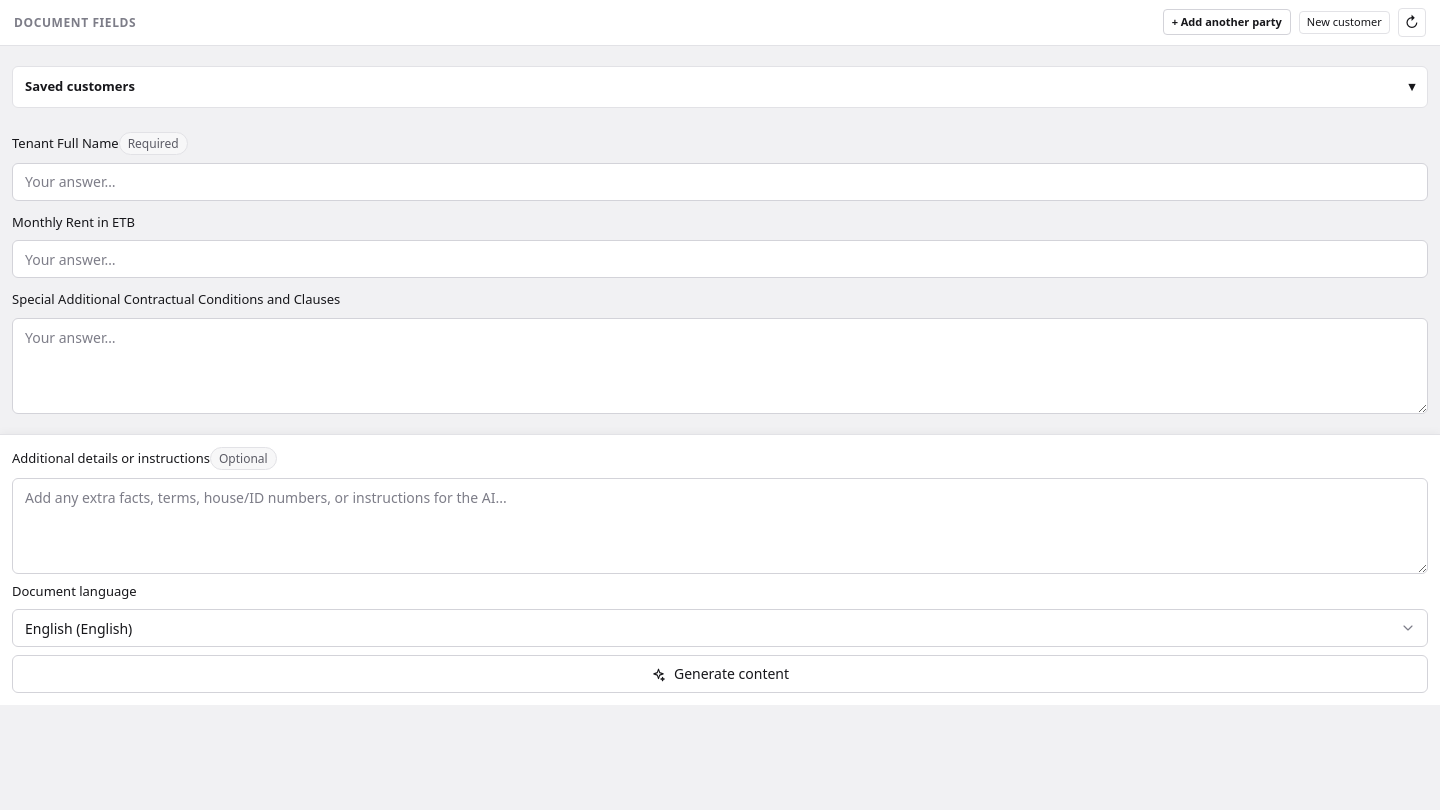
Scenario: Inline Telegram ID Mapping & Repeatable Co-Party Slots › hides the "Fill from ID" picker, for the main field and co-parties, until an ID has been scanned
A co-party row has none either.
Click the button with test id "header-add-party-btn" at x=1227, y=22, box left=1163, top=9, right=1291, bottom=35
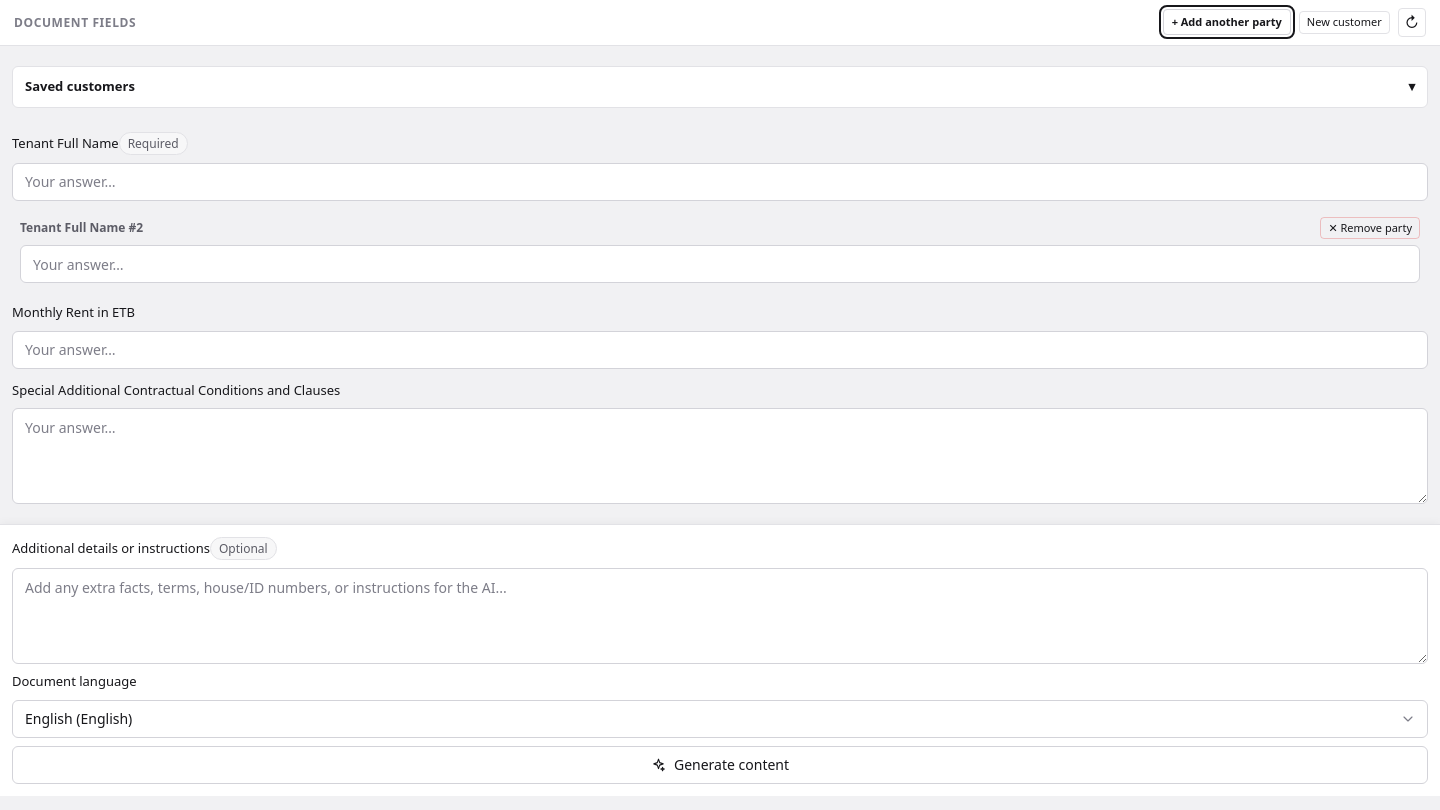
expect the field with test id "co-party-input-tenant_name-1" is shown: met, box left=20, top=245, right=1420, bottom=283
